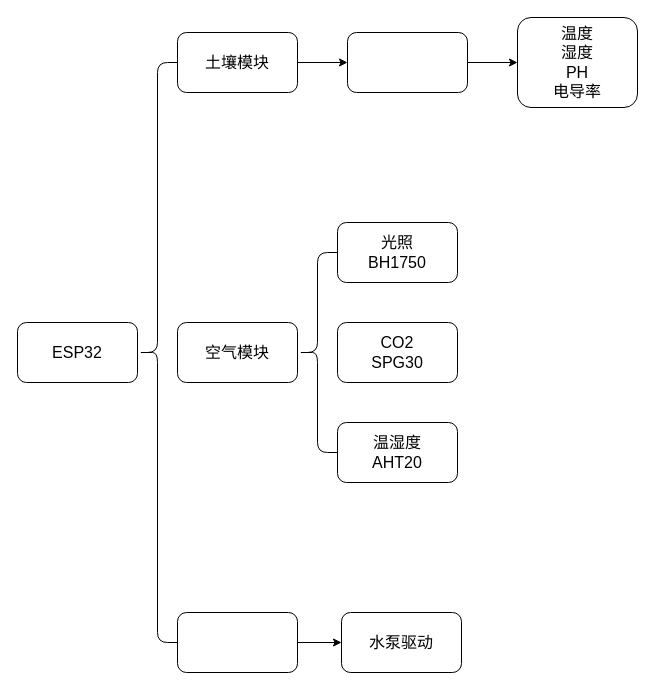
This 655x690 diagram has some shape labels left out. The shapes that lost their labels are listed below. From the top down, each one's centre as x and y in pixels, then its label:
(407,62): RS485 土壤四合一
(237,642): 水泵模块
